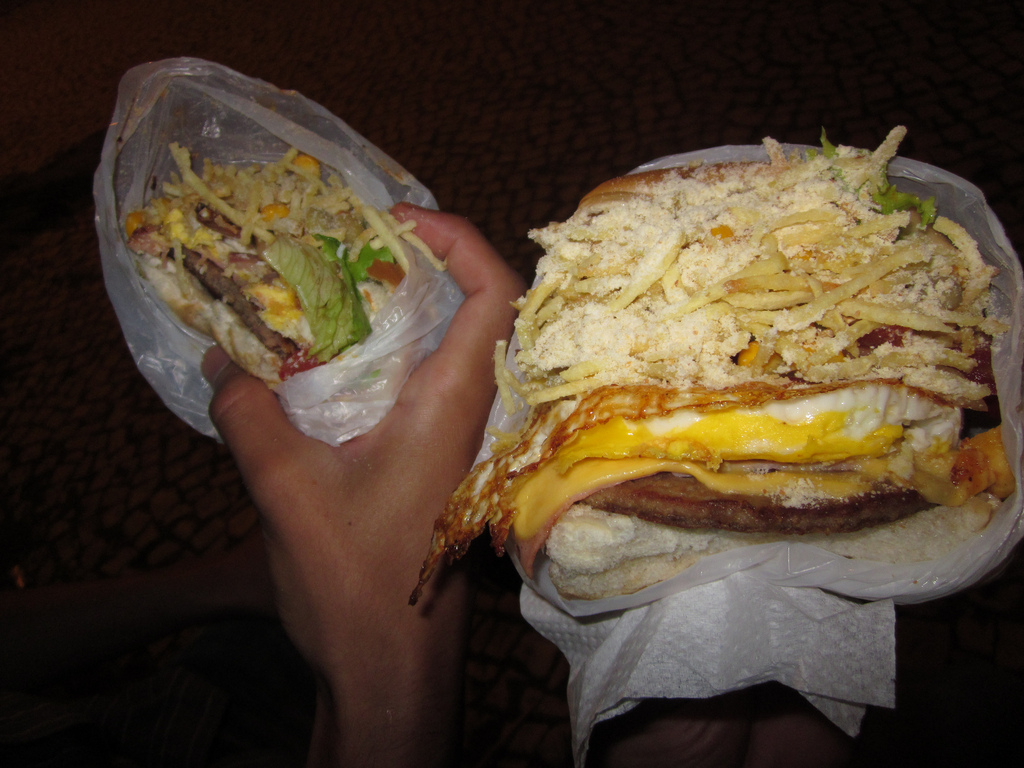chopped lettuce: (273, 228, 380, 361)
fried egg: (527, 387, 972, 475)
plain spaghetti: (555, 237, 988, 367)
slice of bread: (558, 504, 995, 600)
